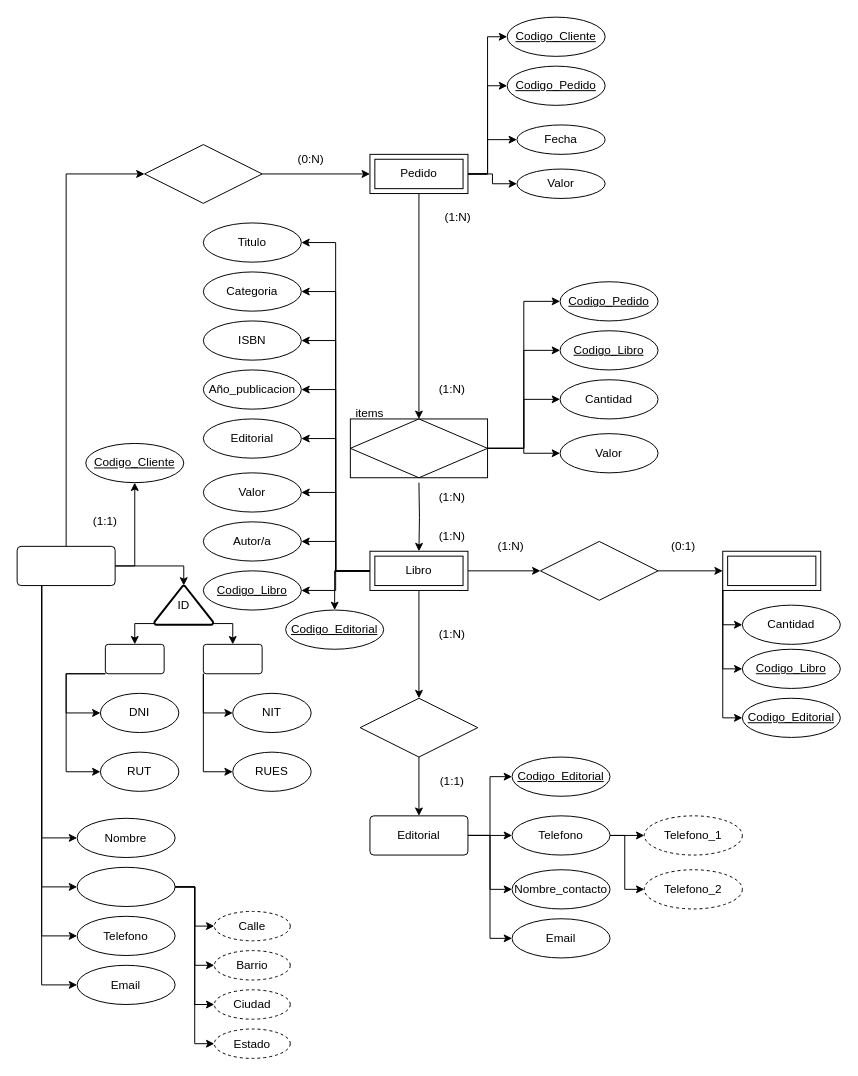
This 858x1076 diagram has some shape labels left out. Each missing label, with the box of its shape:
Cliente: (16, 545, 115, 586)
Contiene: (349, 418, 488, 478)
Direccion: (76, 866, 175, 906)
Existe: (539, 540, 658, 600)
Inventario: (722, 550, 821, 590)
Pertenece: (359, 697, 478, 757)
PJ: (202, 643, 262, 674)
PN: (104, 643, 164, 674)
Realiza: (144, 144, 262, 203)
